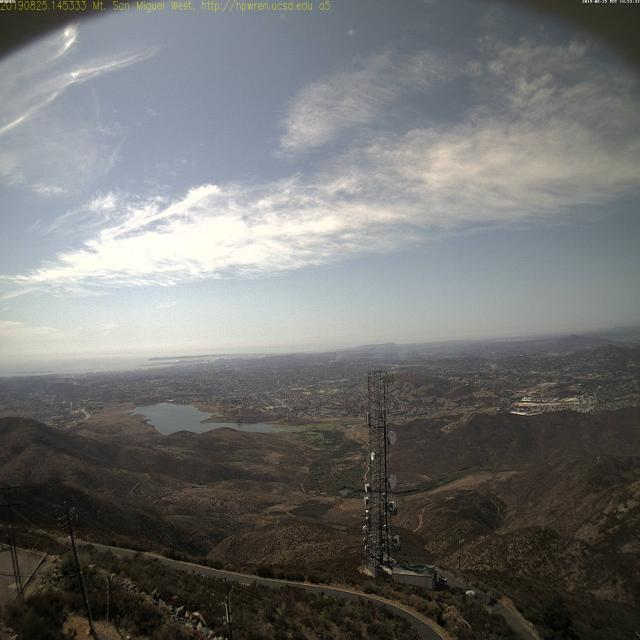smoke: (325, 349, 343, 367)
